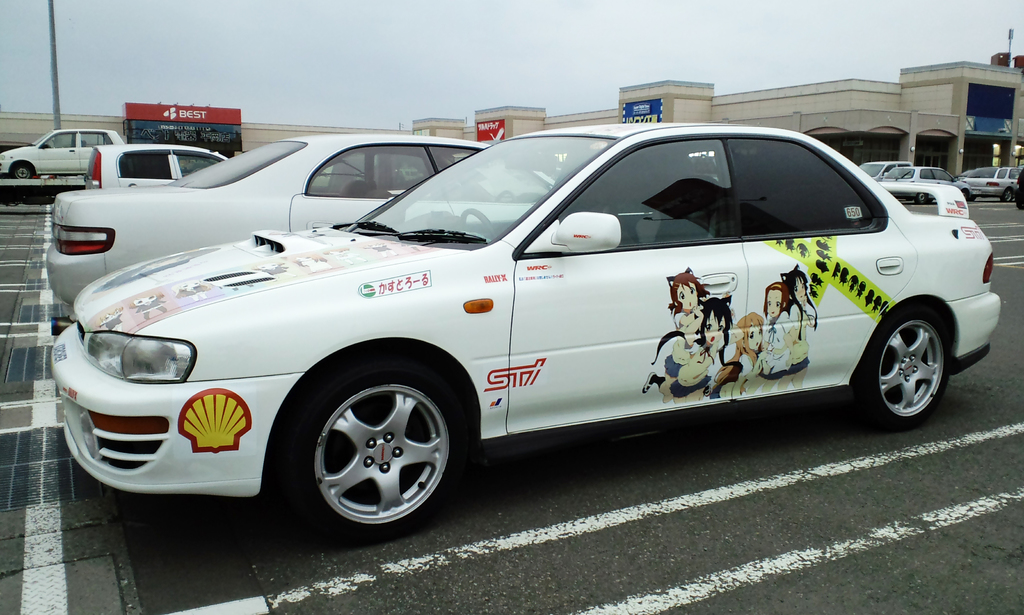Car: (60, 119, 997, 520), (41, 129, 554, 338), (0, 119, 124, 176), (85, 144, 234, 185), (878, 165, 973, 197), (972, 165, 1023, 191), (858, 158, 910, 178)
